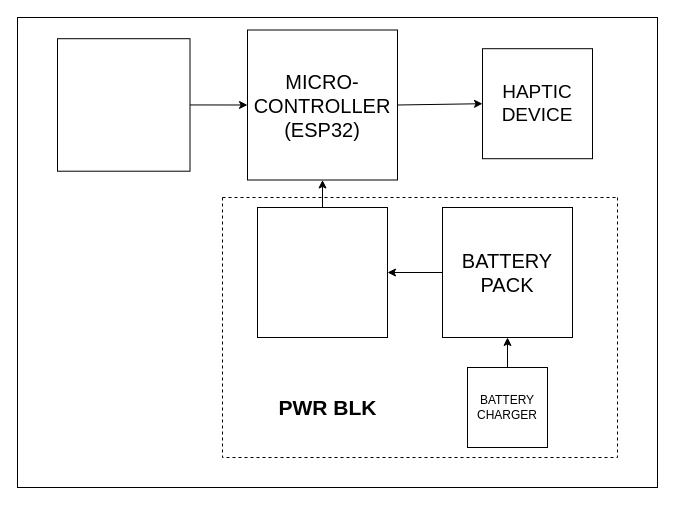
This 675x505 diagram has some shape labels left out. Here are the shapes that lost their labels. From the top down, the centre of each, then its label:
(x=123, y=104): ULTRASONIC SENSOR
(x=322, y=272): BOOST CONVERTER
